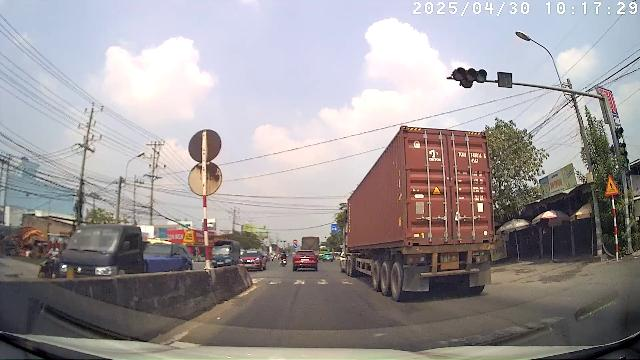102-cam-di-nguoc-chieu: (293, 239, 298, 244)
302a-huong-phai-di-vong-chuong-ngai-vat-1: (293, 244, 298, 248)
